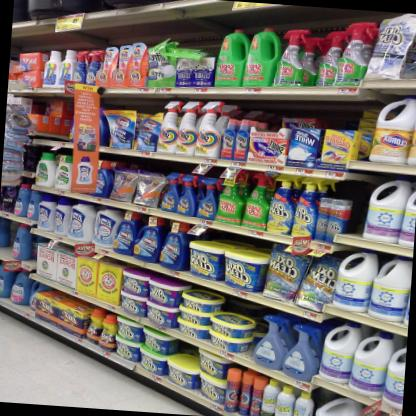empty_space: (342, 178, 376, 238), (0, 245, 16, 254)
